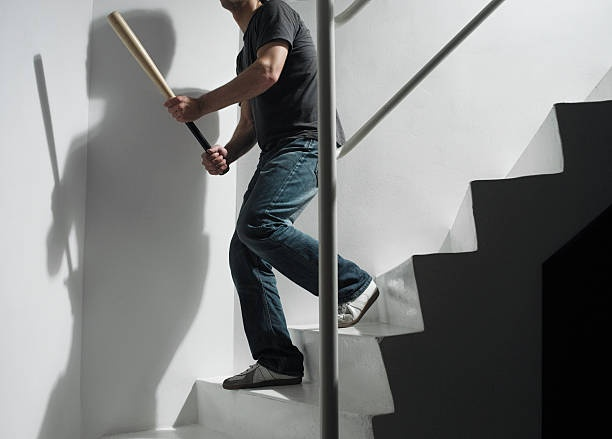bita: (106, 8, 221, 160)
